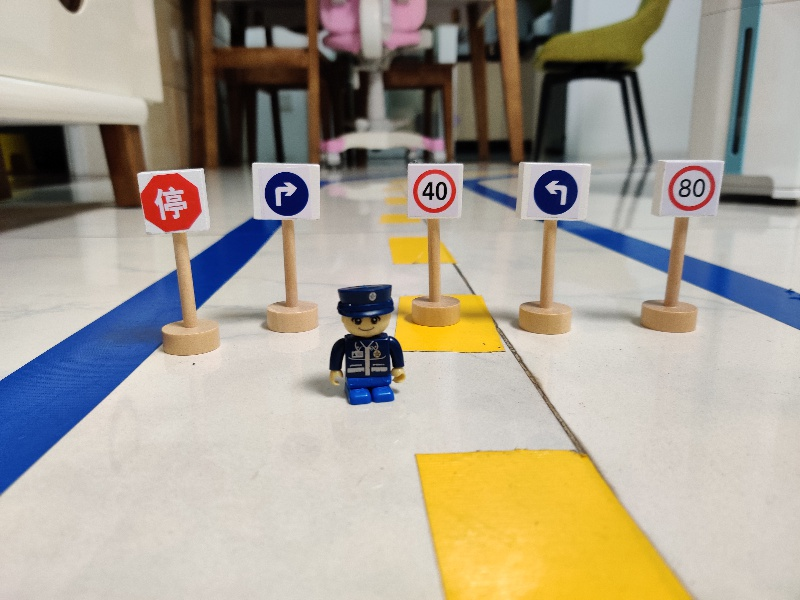limit_40: (403, 161, 464, 220)
limit_80: (652, 156, 726, 216)
person: (320, 282, 413, 411)
stop: (131, 166, 209, 235)
turn_left: (518, 160, 593, 221)
turn_right: (244, 160, 326, 224)
